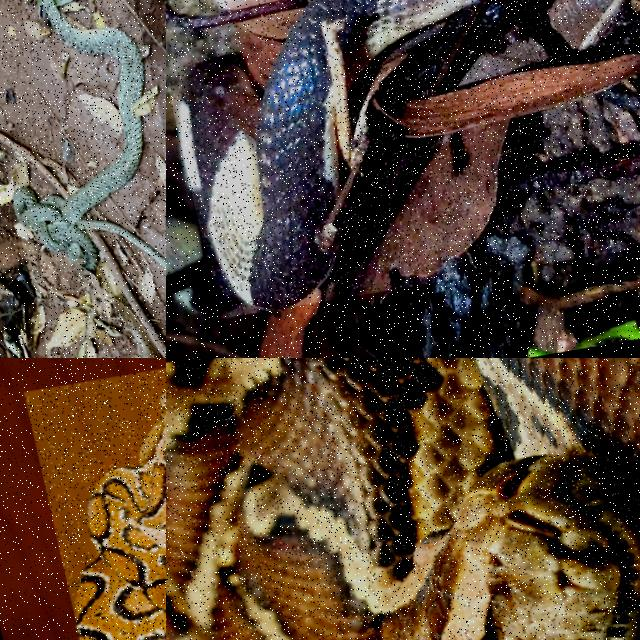Bungarus candidus: (180, 0, 471, 309)
Chrysopelea ornata: (13, 0, 165, 269)
Daboia siamensis: (77, 393, 165, 639)
Python bivittatus: (166, 358, 639, 639)
snake: (166, 358, 639, 639), (180, 0, 471, 309), (13, 0, 165, 269), (77, 393, 165, 639)
